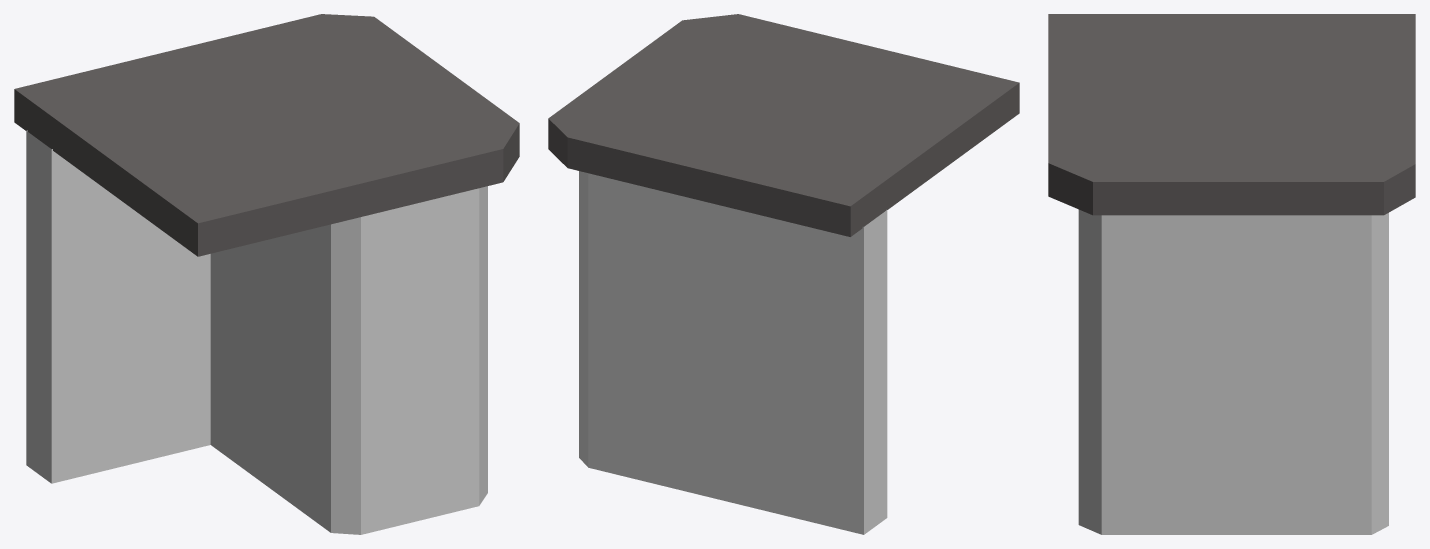
Rendered from Mesa Modulo Final Direito.fbx.
The picture shows the model from 3 angles, left to right: view 1: azimuth 30°, elevation 25°; view 2: azimuth 150°, elevation 25°; view 3: azimuth 270°, elevation 25°; orthographic projection. The views are drawn at different scales.
Visible parts, largest first — view 1: Mesa Módulo Canto Simples Direita; view 2: Mesa Módulo Canto Simples Direita; view 3: Mesa Módulo Canto Simples Direita.
Boxes of the visible parts, x1,y1,x2,y2 form: Mesa Módulo Canto Simples Direita: (14,14,519,534); Mesa Módulo Canto Simples Direita: (548,14,1019,534); Mesa Módulo Canto Simples Direita: (1048,14,1415,534).
Size of the model in its own units: 109 by 110 by 100.
